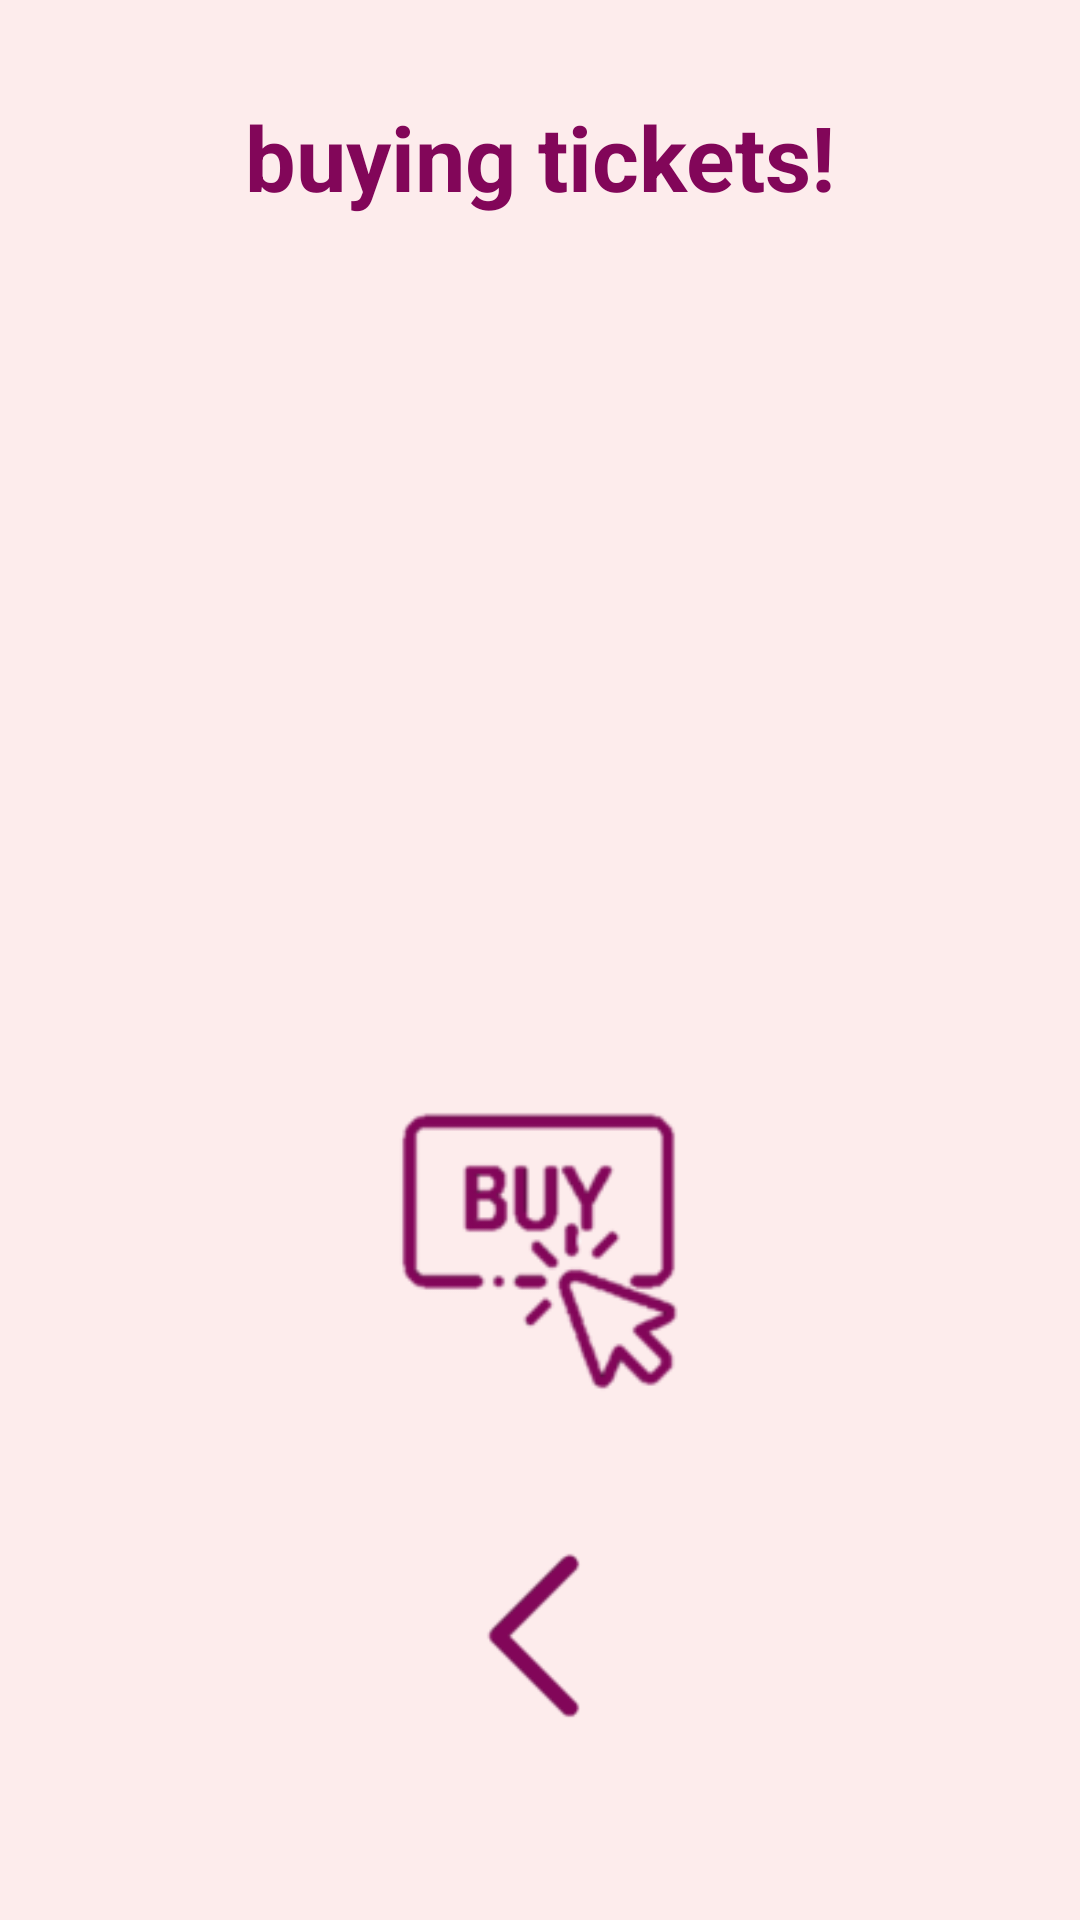

Named icons in this screenshot (1080 × 1920) and their bounding boxes, box(x1, y1, x2, y2):
back: box(487, 1554, 580, 1717)
